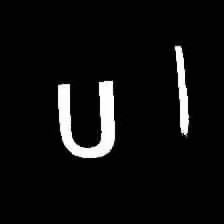LTR_U: (45, 73, 122, 164)
